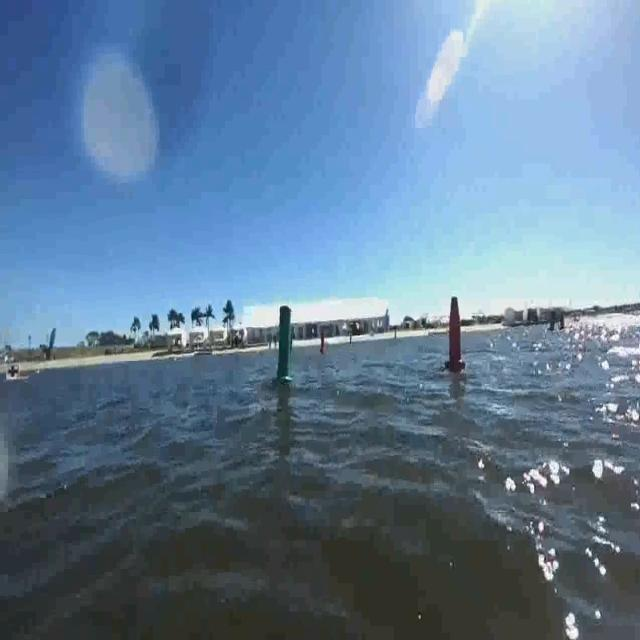green-column-buoy: (274, 303, 296, 389)
red-column-buoy: (445, 294, 467, 374), (319, 330, 328, 355)
